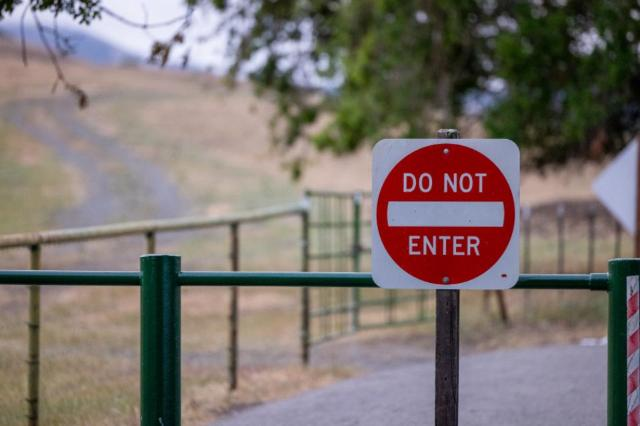B2: (376, 152, 514, 282)
